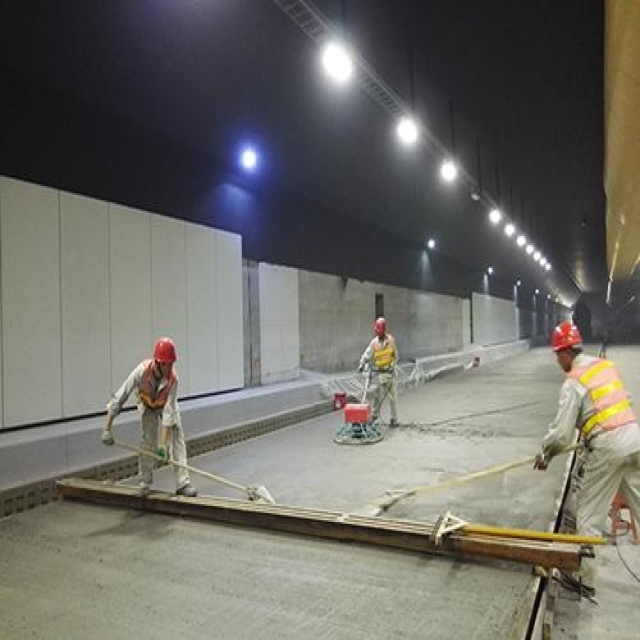Helmet: (548, 316, 590, 375), (149, 331, 184, 375), (367, 313, 393, 346)
Reflective vest: (565, 353, 640, 443), (130, 364, 182, 418), (367, 334, 399, 378)
